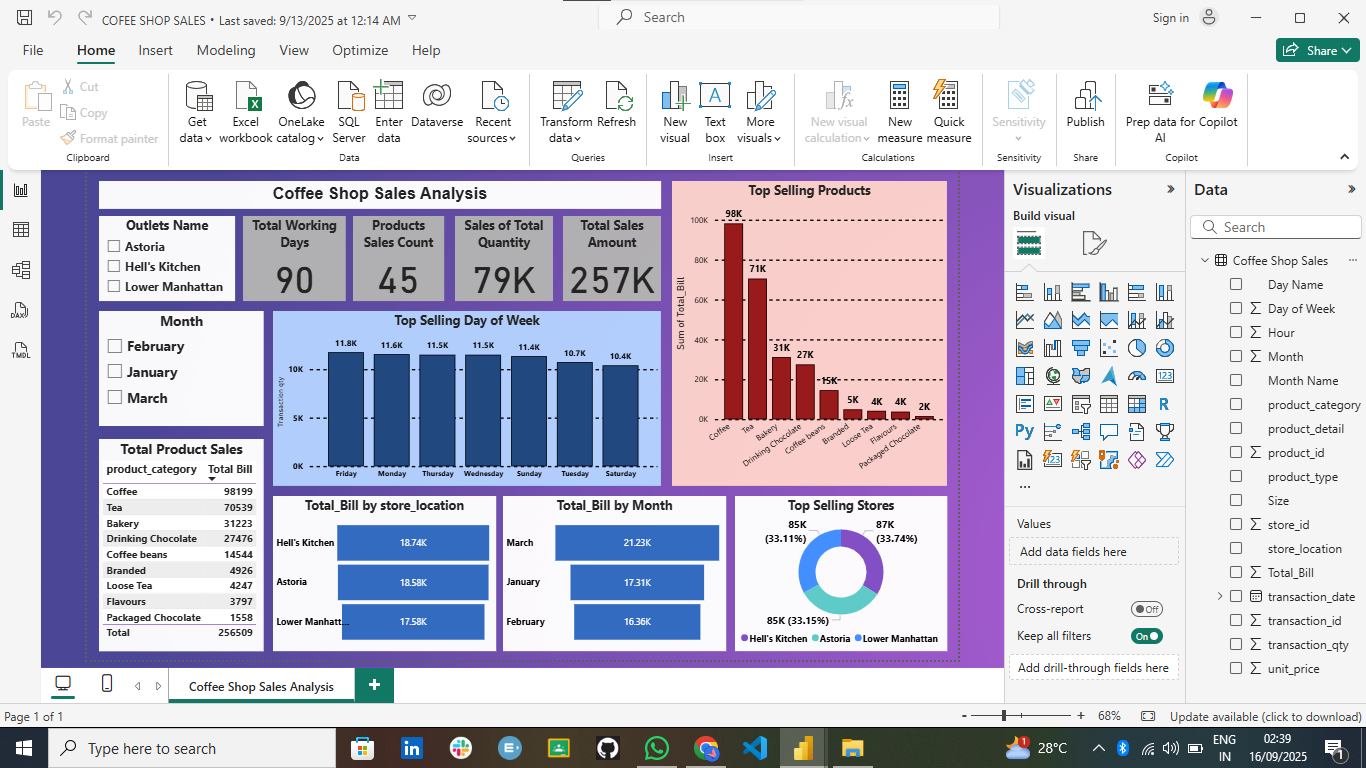

What the dashboard file says about the page in this screenshot:
{"tool":"powerbi","page":{"name":"Coffee Shop Sales Analysis","canvas":[1280,720],"ordinal":0},"visuals":[{"type":"tableEx","title":"Total Product Sales","fields":{"Values":["Coffee Shop Sales.product_category","Sum(Coffee Shop Sales.Total_Bill)"]},"box":[17.6,395.3,242.4,311.5],"z":0},{"type":"textbox","box":[17.6,16.2,825.8,41.1],"z":1000},{"type":"slicer","title":"Month","fields":{"Values":["Coffee Shop Sales.Month Name"]},"box":[17.6,207.2,242.4,169],"z":2000},{"type":"funnel","title":"Total_Bill by store_location","fields":{"Category":["Coffee Shop Sales.store_location"],"Y":["CountNonNull(Coffee Shop Sales.Total_Bill)"]},"box":[273.3,479,327.7,227.8],"z":3000},{"type":"funnel","title":"Total_Bill by Month","fields":{"Category":["Coffee Shop Sales.Month Name"],"Y":["CountNonNull(Coffee Shop Sales.Total_Bill)"]},"box":[611.3,479,327.7,227.8],"z":4000},{"type":"card","title":"Products Sales Count","fields":{"Values":["Count(Coffee Shop Sales.product_detail)"]},"box":[390.9,67.6,133.7,124.9],"z":5000},{"type":"card","title":"Sales of Total Quantity ","fields":{"Values":["Sum(Coffee Shop Sales.transaction_qty)"]},"box":[540.7,67.6,144,124.9],"z":6000},{"type":"clusteredColumnChart","title":"Top Selling Day of Week","fields":{"Y":["Sum(Coffee Shop Sales.transaction_qty)"],"Category":["Coffee Shop Sales.Day Name"]},"box":[273.3,207.2,570.1,257.1],"z":7000},{"type":"card","title":"Total Sales Amount","fields":{"Values":["Sum(Coffee Shop Sales.Total_Bill)"]},"box":[699.4,67.6,144,124.9],"z":8000},{"type":"slicer","title":"Outlets Name","fields":{"Values":["Coffee Shop Sales.store_location"]},"box":[17.6,67.6,199.8,124.9],"z":9000},{"type":"card","title":"Total Working Days","fields":{"Values":["Count(Coffee Shop Sales.transaction_date)"]},"box":[229.2,67.6,151.3,124.9],"z":10000},{"type":"clusteredColumnChart","title":"Top Selling Products","fields":{"Category":["Coffee Shop Sales.product_category"],"Y":["Sum(Coffee Shop Sales.Total_Bill)"]},"box":[859.6,16.2,404.1,448.2],"z":11000},{"type":"donutChart","title":"Top Selling Stores","fields":{"Category":["Coffee Shop Sales.store_location"],"Y":["Sum(Coffee Shop Sales.Total_Bill)"]},"box":[952.2,479,311.5,227.8],"z":12000}]}

Visuals, with their boxes on the page's 1280x720 design canvas (x1, y1, x2, y2). These are canvas units, not pixel positions in the 1366x768 screenshot, which may show the page scaled, cropped or inside an application window:
"Total Product Sales" tableEx: x1=18, y1=395, x2=260, y2=707
textbox: x1=18, y1=16, x2=843, y2=57
"Month" slicer: x1=18, y1=207, x2=260, y2=376
"Total_Bill by store_location" funnel: x1=273, y1=479, x2=601, y2=707
"Total_Bill by Month" funnel: x1=611, y1=479, x2=939, y2=707
"Products Sales Count" card: x1=391, y1=68, x2=525, y2=192
"Sales of Total Quantity " card: x1=541, y1=68, x2=685, y2=192
"Top Selling Day of Week" clusteredColumnChart: x1=273, y1=207, x2=843, y2=464
"Total Sales Amount" card: x1=699, y1=68, x2=843, y2=192
"Outlets Name" slicer: x1=18, y1=68, x2=217, y2=192
"Total Working Days" card: x1=229, y1=68, x2=380, y2=192
"Top Selling Products" clusteredColumnChart: x1=860, y1=16, x2=1264, y2=464
"Top Selling Stores" donutChart: x1=952, y1=479, x2=1264, y2=707
